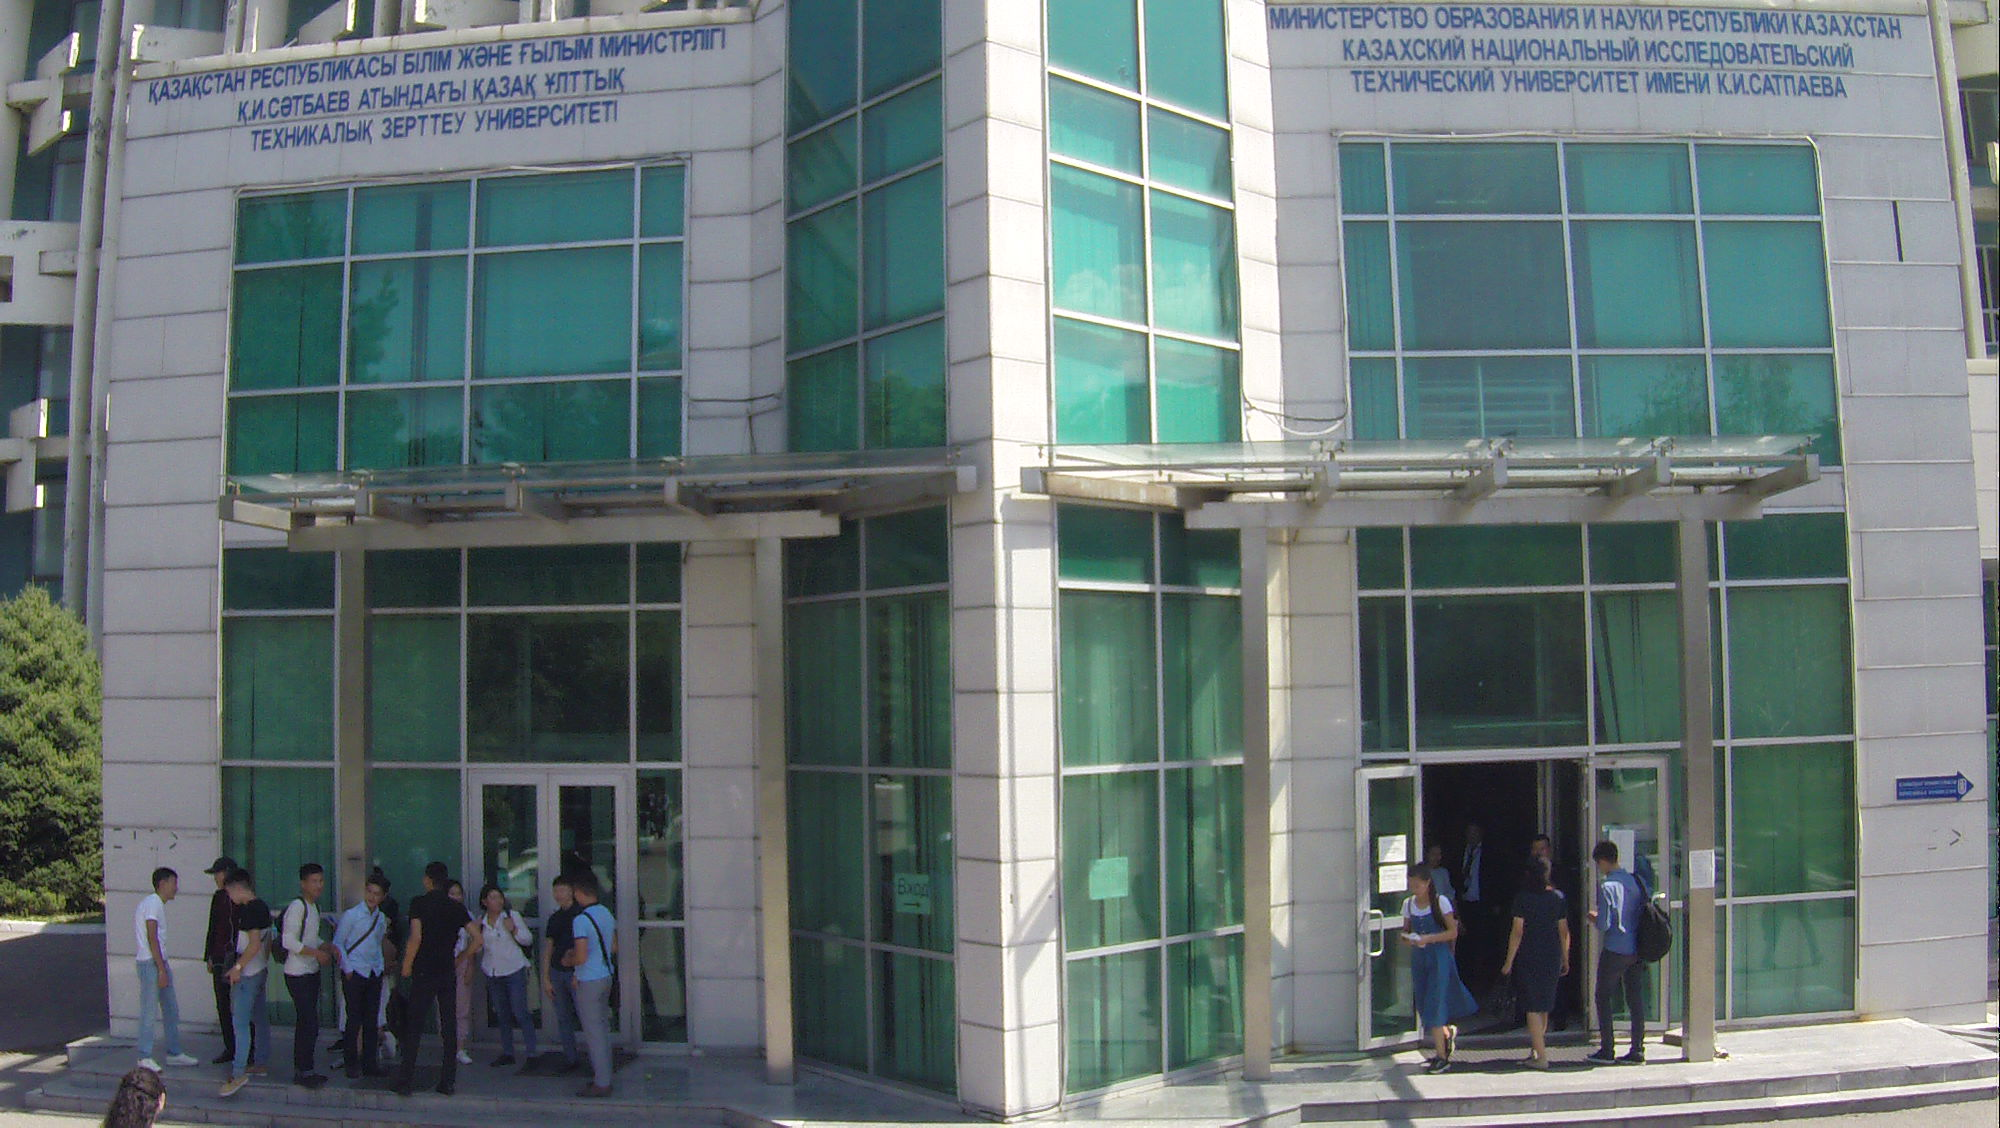person: (1587, 842, 1676, 1081), (405, 858, 483, 1104), (1395, 859, 1482, 1078), (1502, 855, 1579, 1075), (123, 861, 200, 1077), (565, 873, 628, 1110), (286, 853, 340, 1099), (477, 883, 540, 1087), (227, 863, 280, 1100), (342, 868, 386, 1092), (447, 875, 480, 1064), (542, 872, 571, 1075)
